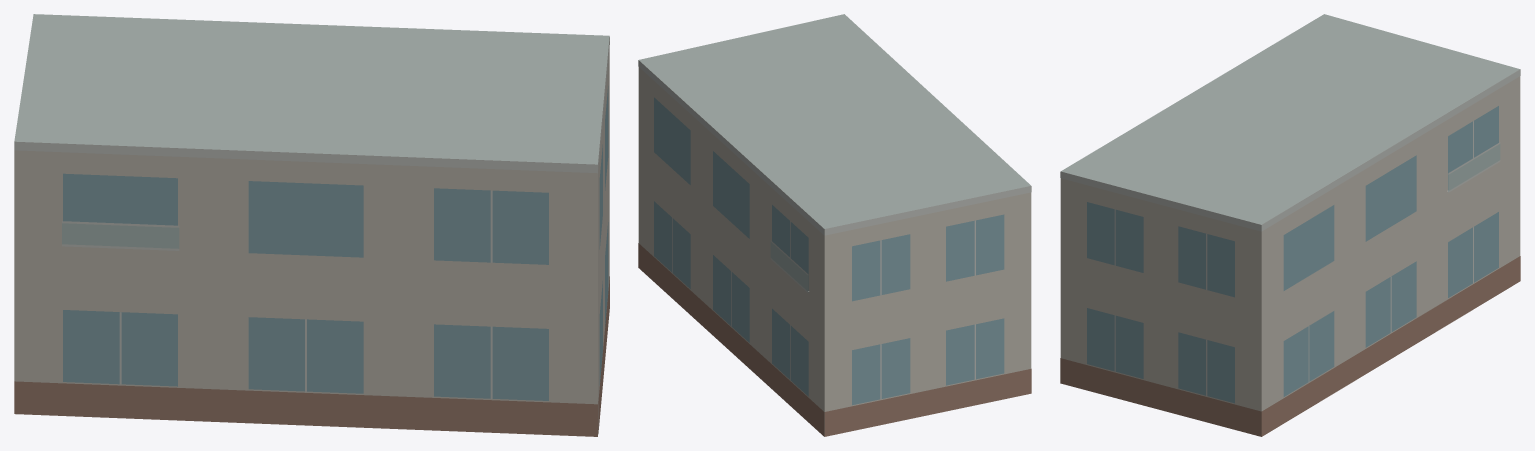
Rendered from survey-upis-32925046.glb.
3 renders of one model, left to right at view 1: azimuth 30°, elevation 25°; view 2: azimuth 150°, elevation 25°; view 3: azimuth 270°, elevation 25°, orthographic. The views are drawn at different scales.
Parts seen in each view (by area): view 1: survey-upis-32925046.tmp; view 2: survey-upis-32925046.tmp; view 3: survey-upis-32925046.tmp.
Boxes of the visible parts, <box> form: survey-upis-32925046.tmp: <box>14,14,609,436</box>; survey-upis-32925046.tmp: <box>638,14,1031,436</box>; survey-upis-32925046.tmp: <box>1060,14,1520,436</box>.
Bounding box in the file's own units: 16.44 × 7.7 × 15.15.
